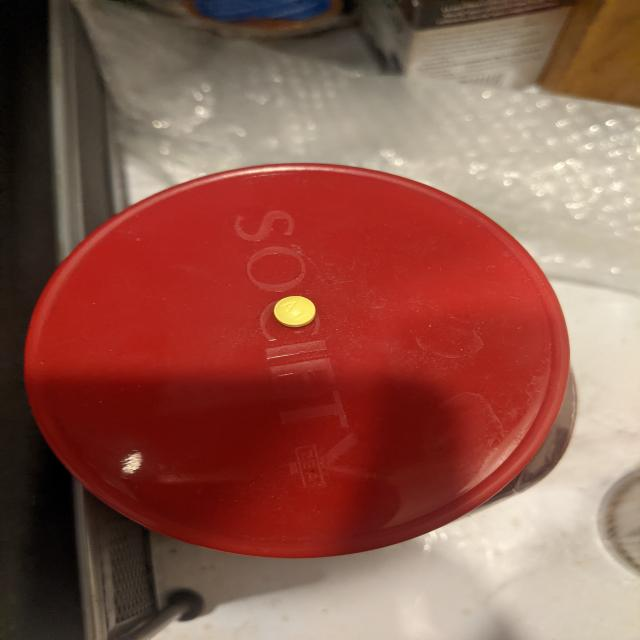non-organic waste: (273, 295, 317, 328)
